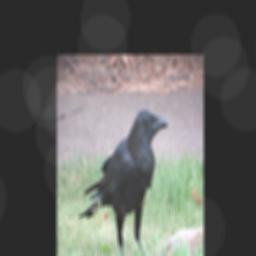Crow: (78, 109, 170, 256)
